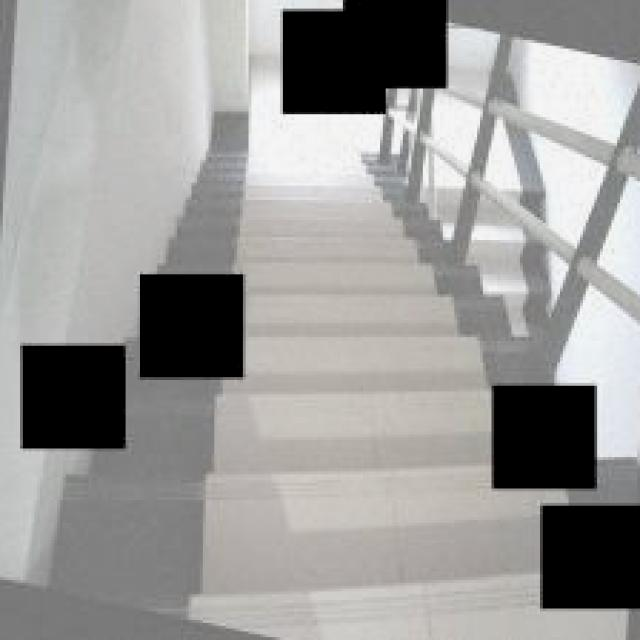downstair: (264, 261, 438, 627)
